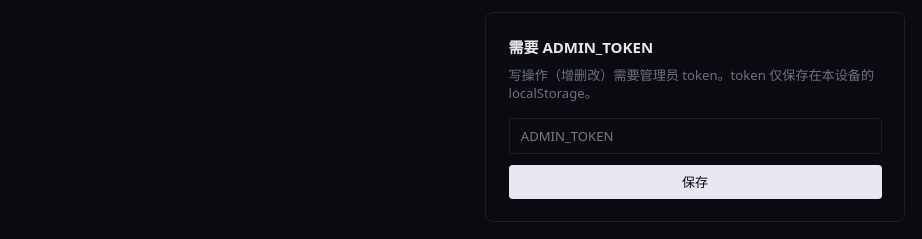
Test: TokenGate › renders children once a token is saved
Type "my-token" into the password field with placeholder "ADMIN_TOKEN" at (695, 136), box [508,118,882,154]
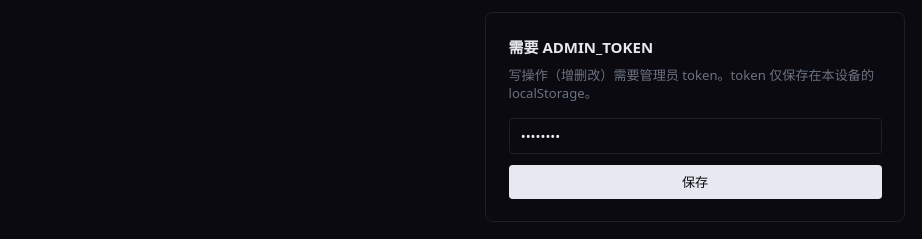
Click the button "保存" at (695, 182), box [508,165,882,199]
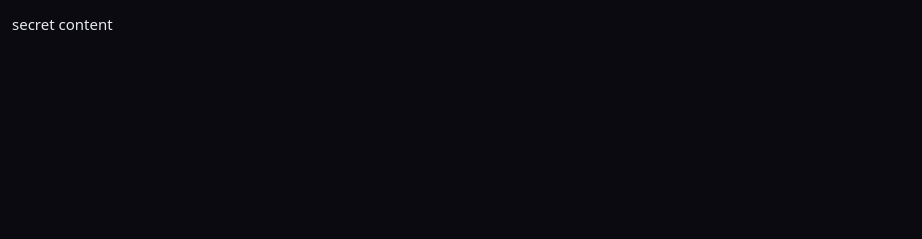
Expected: the text "secret content" is shown, [12,14,113,34]
